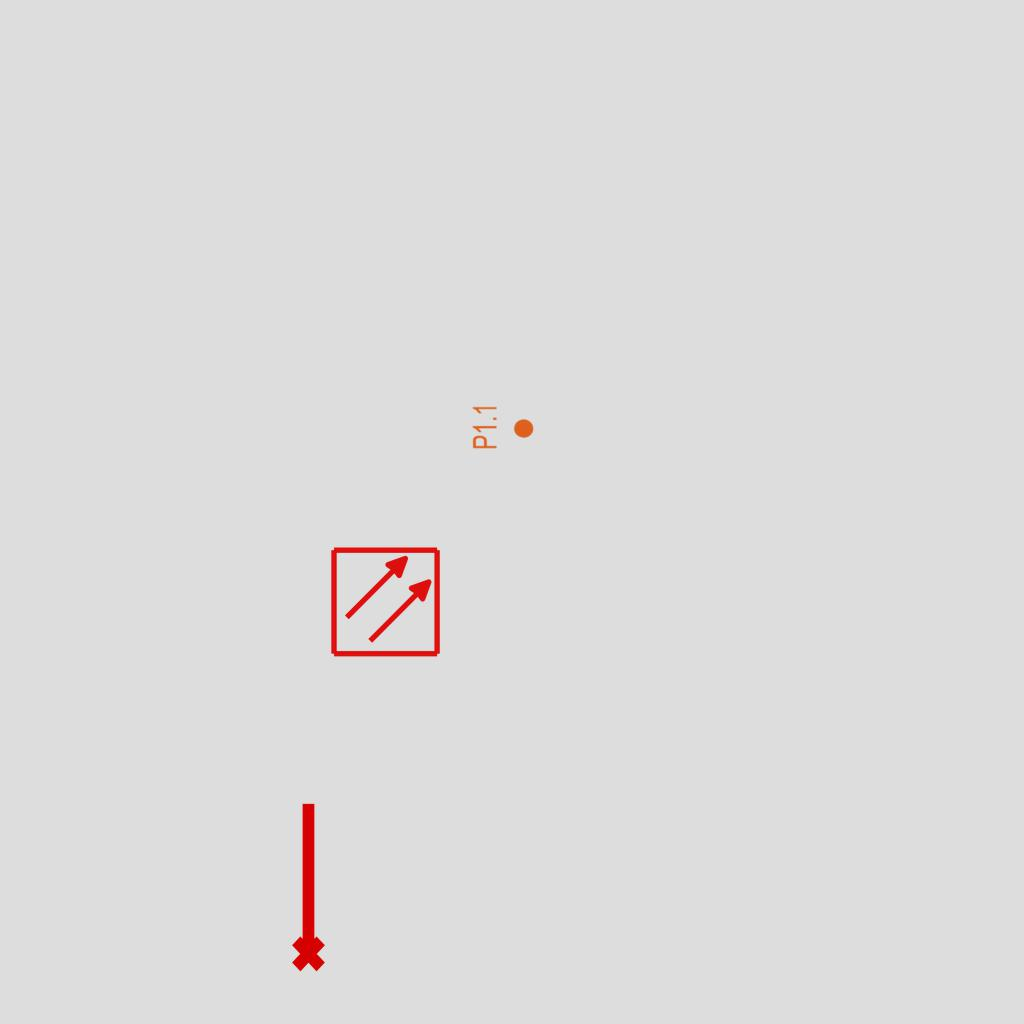ASR_Ansaugoeffnung: (283, 798, 329, 974)
Downlight_LED_Einbauleuchten_Flur: (471, 404, 535, 450)
RMO_Rauchmelder_optischer: (329, 545, 442, 658)
